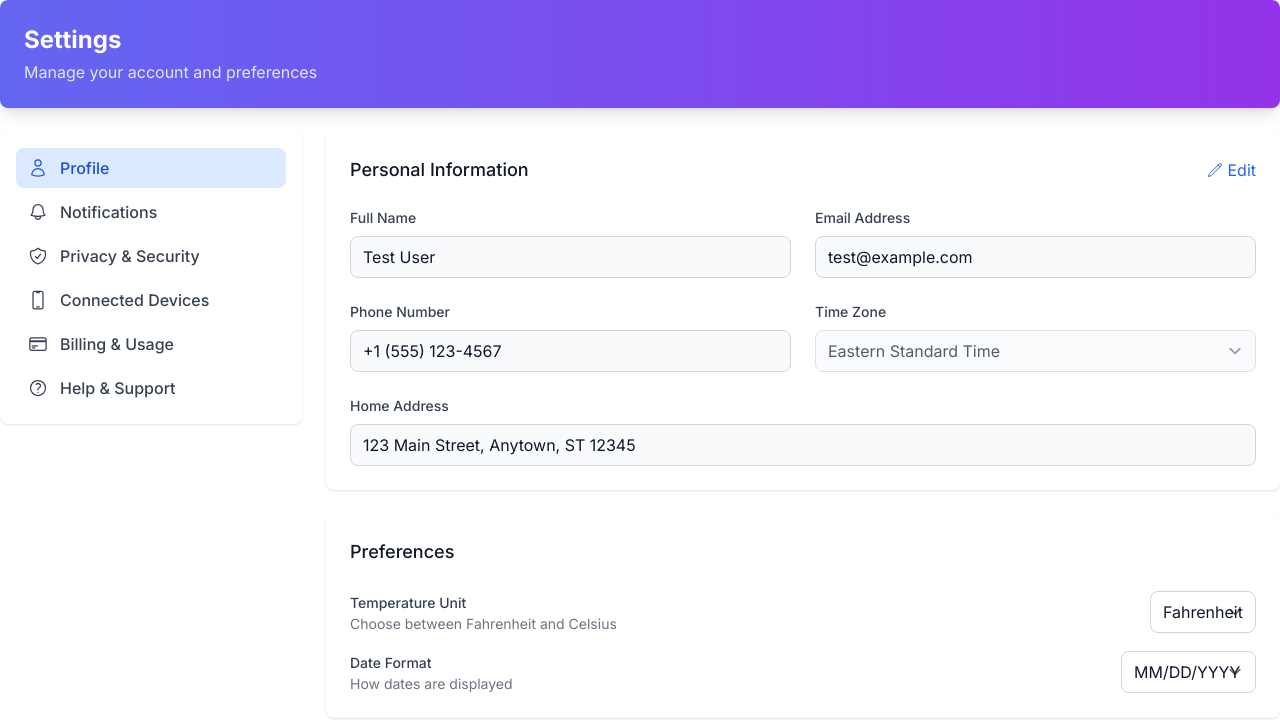
it: ConsumerSettings › Navigation › switches to devices section when clicked
The image size is (1280, 720).
Click the button "Connected Devices".
click(151, 300)  # box x1=16 y1=280 x2=286 y2=320
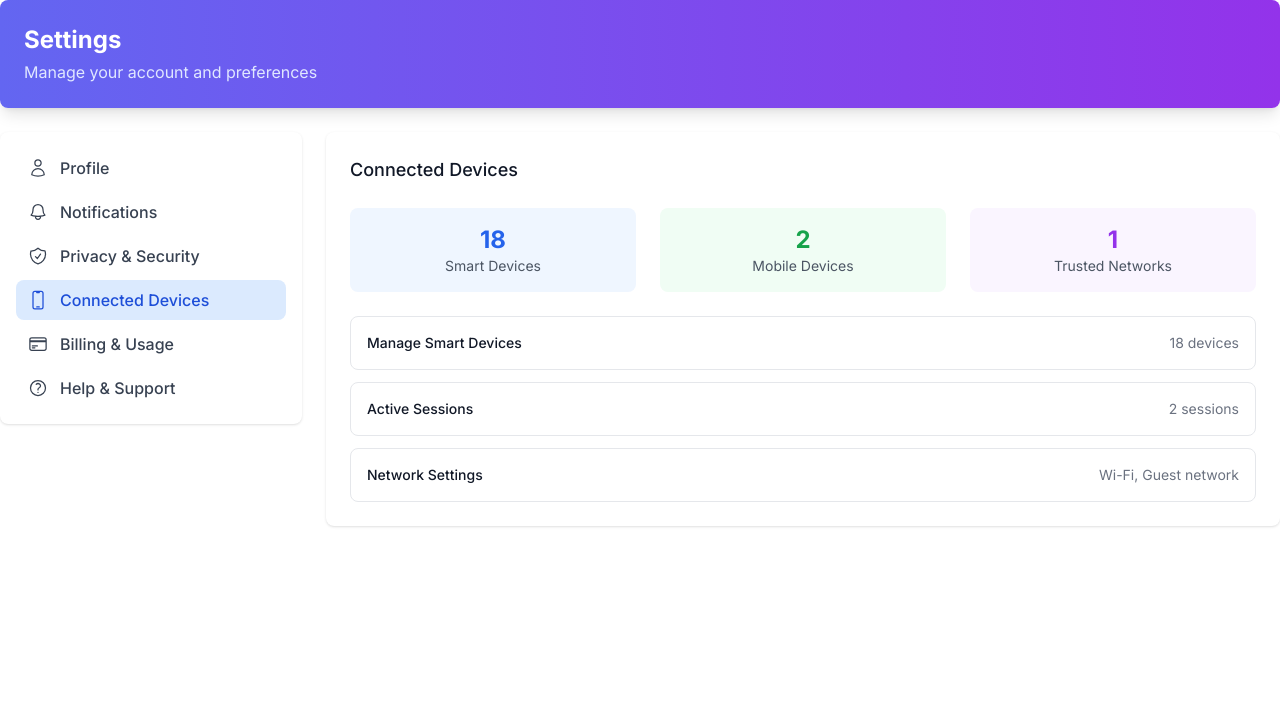
expect the text "18" is shown: met, box x1=480 y1=225 x2=506 y2=254
expect the text "Smart Devices" is shown: met, box x1=445 y1=257 x2=541 y2=274
